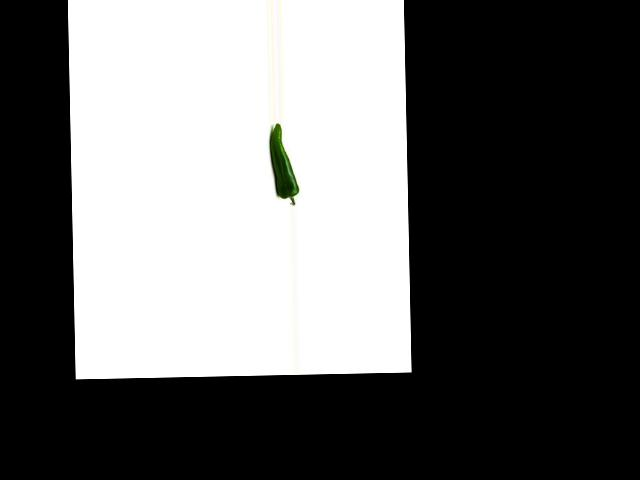bell_pepper: (267, 122, 300, 208)
